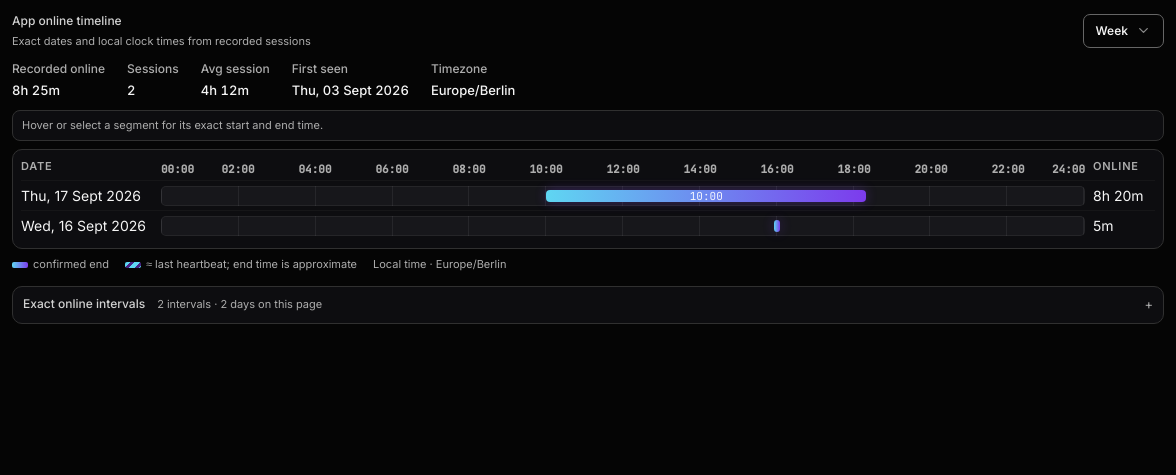
UserActivityPanel › opens a folded day and selects its line when the day's bar is clicked
The image size is (1176, 475).
// The second bar is Wed 16's five-minute run.
Click the 2nd button with class "user-activity-timeline-segment" at (777, 226), box [774,220,780,232]
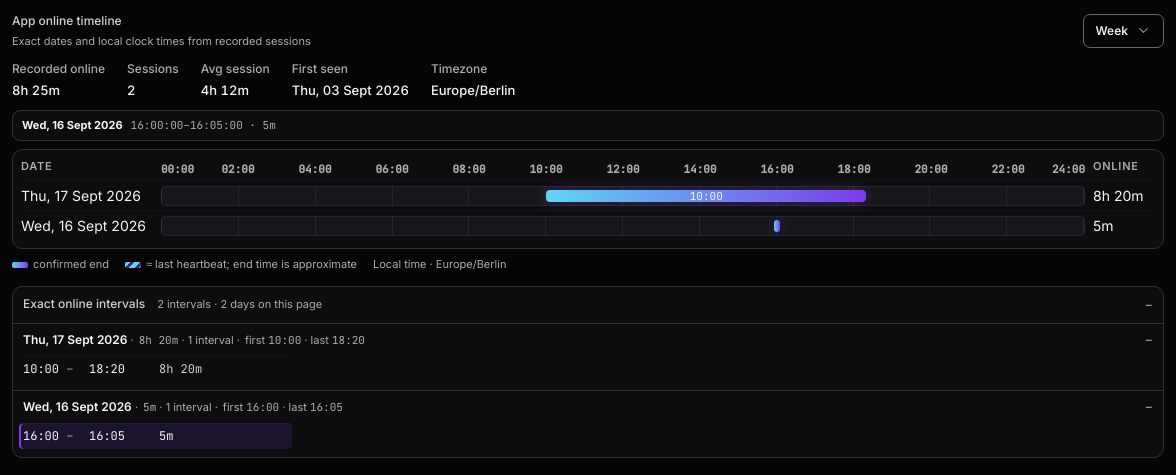
Check: the number of list items with class "is-selected" is 1, box [19,423,292,449]
